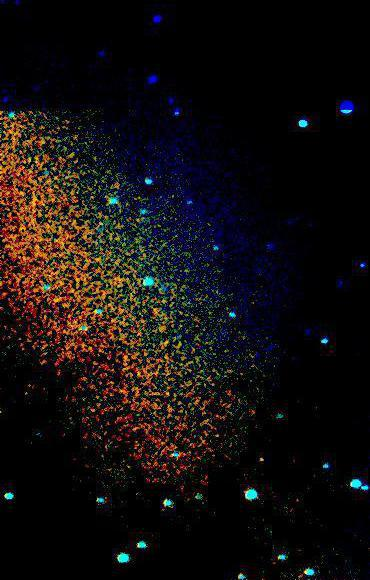star: (247, 446, 277, 476)
